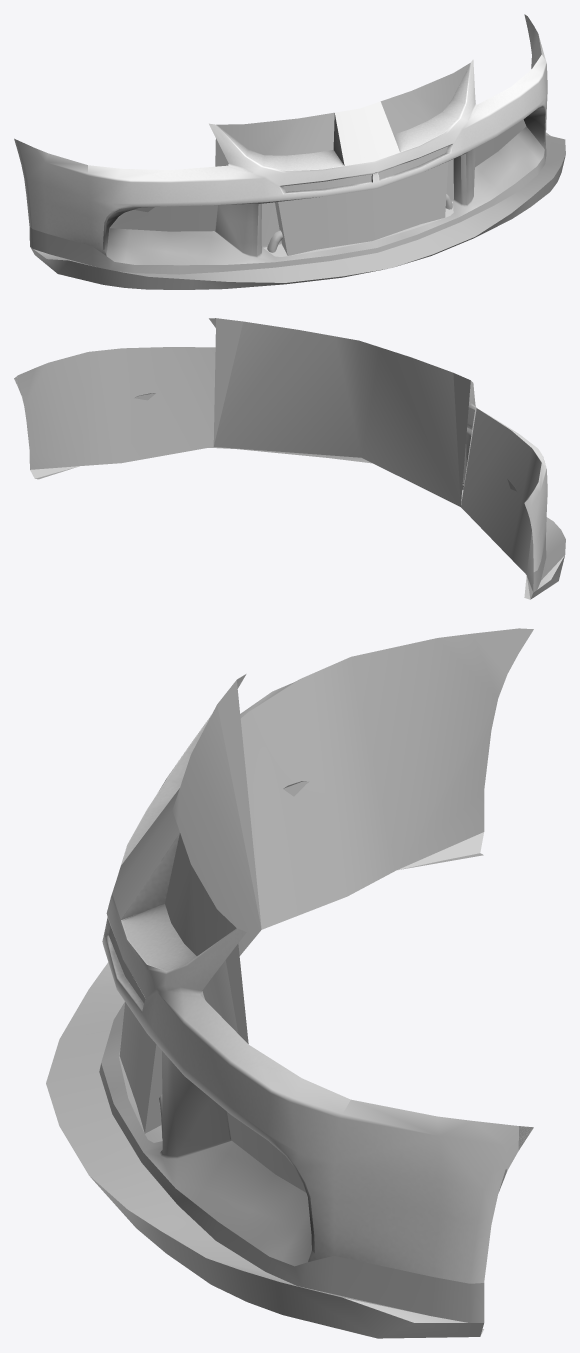
File: Sport_2_Bumper_F_2.fbx
3 views of the same model, one above another, from view 1: azimuth 30°, elevation 25°; view 2: azimuth 150°, elevation 25°; view 3: azimuth 270°, elevation 25° (orthographic). The views are drawn at different scales.
Parts seen in each view (by area): view 1: Sport_2_Bumper_F_2; view 2: Sport_2_Bumper_F_2; view 3: Sport_2_Bumper_F_2.
Boxes of the visible parts, left/top/right/bottom form: Sport_2_Bumper_F_2: left=14, top=14, right=565, bottom=289; Sport_2_Bumper_F_2: left=14, top=318, right=565, bottom=599; Sport_2_Bumper_F_2: left=46, top=628, right=533, bottom=1338.
Bounding box in the file's own units: 182 × 49.81 × 75.43.
